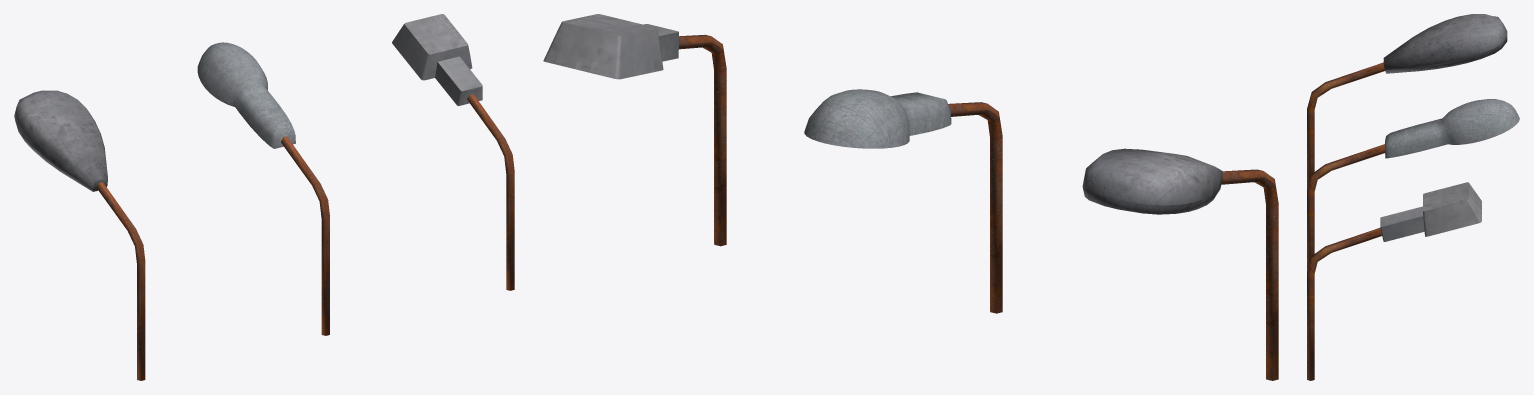
The model's file is lSoviet1.glb.
The picture shows the model from 3 angles, left to right: view 1: azimuth 30°, elevation 25°; view 2: azimuth 150°, elevation 25°; view 3: azimuth 270°, elevation 25°; orthographic projection. The views are drawn at different scales.
Parts seen in each view (by area): view 1: Plane_Material.001_0, Plane.001_Material.002_0, Plane.004_Material_0, Plane.005_Material.006_0; view 2: Plane.001_Material.002_0, Plane_Material.001_0, Plane.004_Material_0, Plane.005_Material.006_0; view 3: Plane_Material.001_0, Plane.001_Material.002_0, Plane.004_Material_0, Plane.005_Material.006_0.
Boxes of the visible parts, x1,y1,x2,y2 form: Plane_Material.001_0: (14, 90, 107, 191); Plane.001_Material.002_0: (96, 94, 514, 380); Plane.004_Material_0: (197, 42, 295, 148); Plane.005_Material.006_0: (392, 14, 482, 105); Plane.001_Material.002_0: (679, 34, 1278, 380); Plane_Material.001_0: (1082, 148, 1222, 214); Plane.004_Material_0: (804, 89, 951, 148); Plane.005_Material.006_0: (543, 14, 678, 79); Plane_Material.001_0: (1383, 14, 1507, 73); Plane.001_Material.002_0: (1307, 62, 1384, 380); Plane.004_Material_0: (1385, 99, 1519, 158); Plane.005_Material.006_0: (1380, 182, 1481, 241).
Bounding box in the file's own units: 11.55 × 5.55 × 5.48.
Materials: 6 (6 with a texture image).
